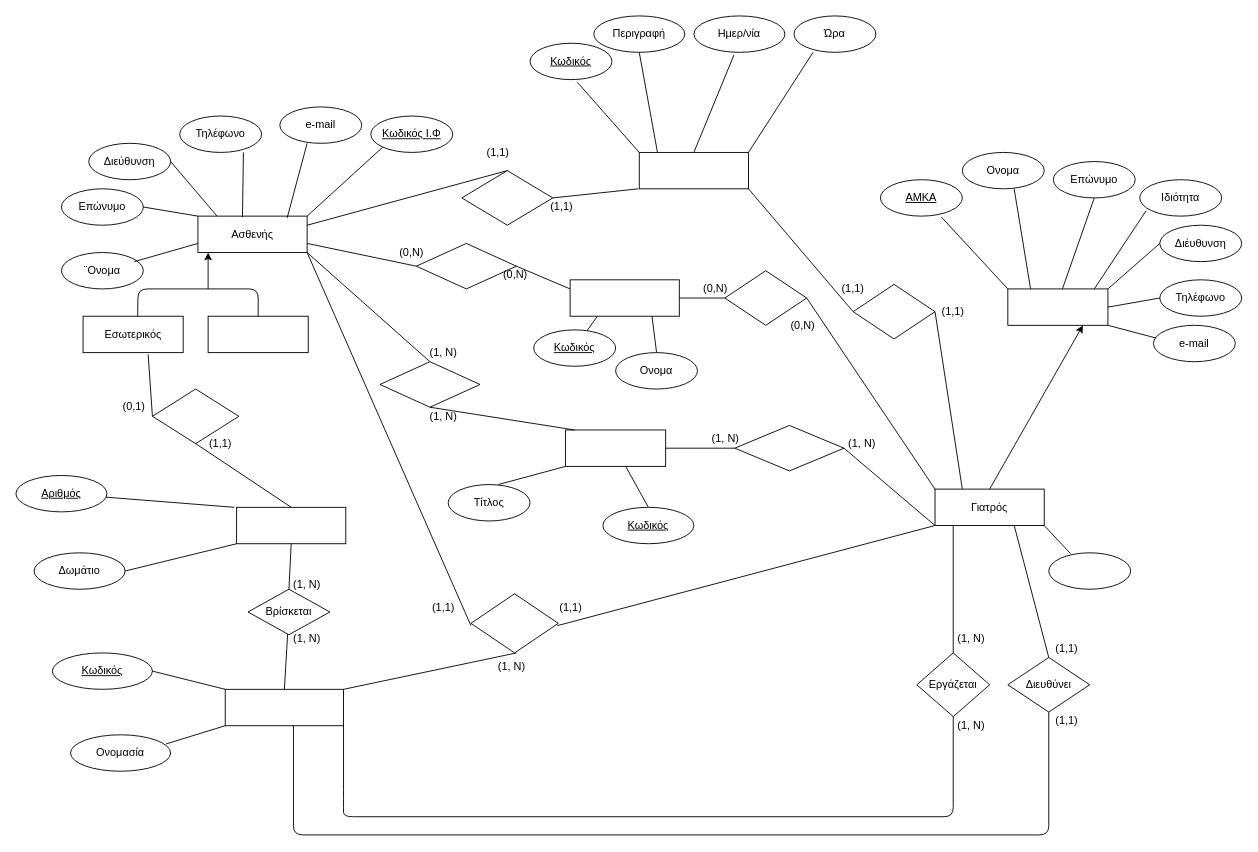
The diagram is 1258 pixels wide and 852 high, and some of its shapes have lost their labels. Each missing label, with the box of its shape:
Ανατίθεται: (152, 388, 239, 444)
Διάγνωση: (565, 429, 666, 466)
Διαγιγνώσκεται: (379, 361, 480, 407)
Ειδικόητα: (1048, 552, 1131, 589)
Εισάγεται: (470, 593, 558, 653)
Εξωτερικός: (207, 315, 308, 353)
Εργαζόμενος: (1007, 288, 1108, 325)
Θεραπεία: (569, 279, 679, 316)
Θεραπεύει: (724, 270, 807, 325)
Θεραπεύεται: (415, 243, 516, 289)
Κλινική: (224, 688, 344, 726)
Κρεβάτι: (236, 506, 346, 544)
Παραλαμβάνει: (461, 170, 553, 225)
Παραπεμπτικό: (638, 152, 748, 189)
Πραγματοποιειται: (734, 425, 844, 471)
Συντάσει: (852, 283, 935, 339)
